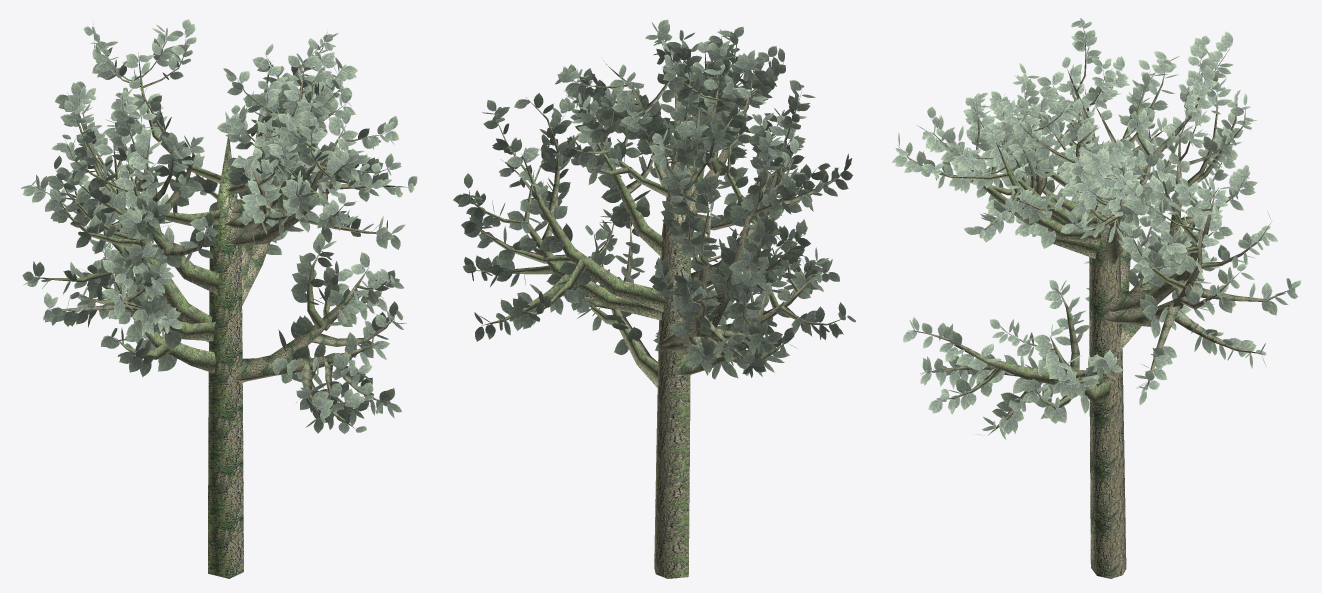
Rendered from OakTree3.obj.
3 views of the same model, side by side, from view 1: azimuth 30°, elevation 25°; view 2: azimuth 150°, elevation 25°; view 3: azimuth 270°, elevation 25° (orthographic). The views are drawn at different scales.
Parts seen in each view (by area): view 1: trunk; view 2: trunk; view 3: trunk.
Part boxes in pixels (<box>): trunk: <box>21,19,417,578</box>; trunk: <box>453,19,855,578</box>; trunk: <box>892,18,1301,578</box>.
Bounding box in the file's own units: 27.36 × 35.67 × 26.57.
Materials: 2 (2 with a texture image).
